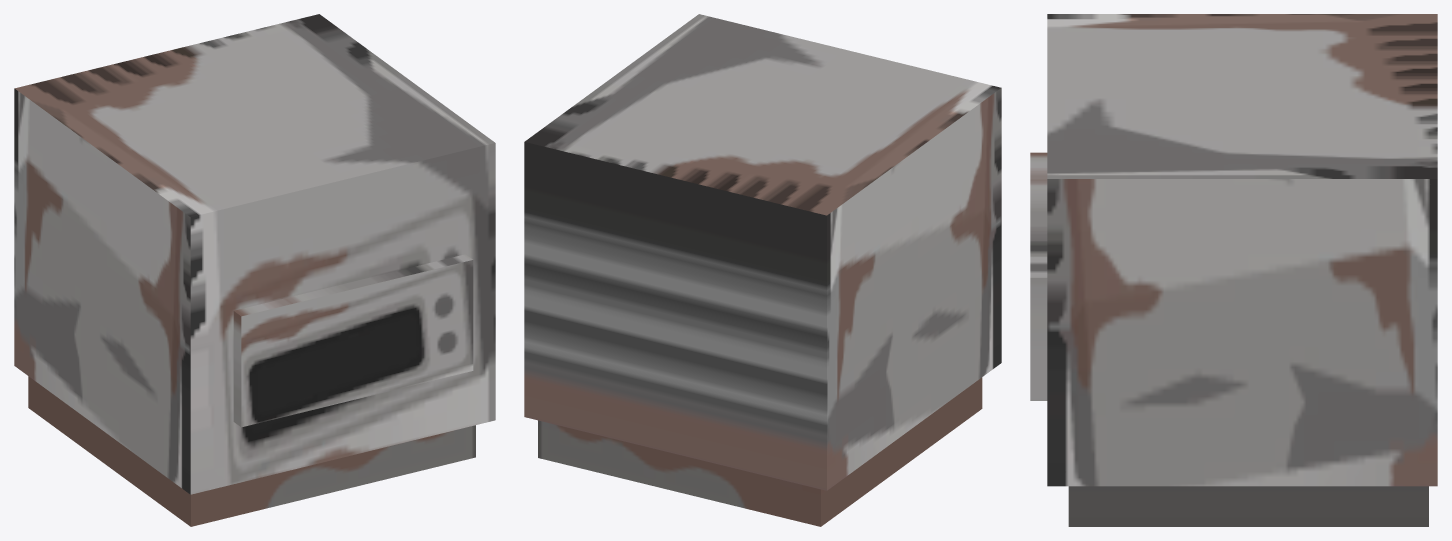
File: Building_AncientRustedMicrowave.glb
3 views of the same model, side by side, from view 1: azimuth 30°, elevation 25°; view 2: azimuth 150°, elevation 25°; view 3: azimuth 270°, elevation 25° (orthographic). The views are drawn at different scales.
Visible parts, largest first — view 1: AncientRustedMicrowave; view 2: AncientRustedMicrowave; view 3: AncientRustedMicrowave.
Boxes of the visible parts, x1,y1,x2,y2 form: AncientRustedMicrowave: [14, 14, 495, 526]; AncientRustedMicrowave: [524, 14, 1001, 526]; AncientRustedMicrowave: [1030, 14, 1437, 526].
Bounding box in the file's own units: 0.92 × 0.92 × 0.96.
Materials: 1 (1 with a texture image).
